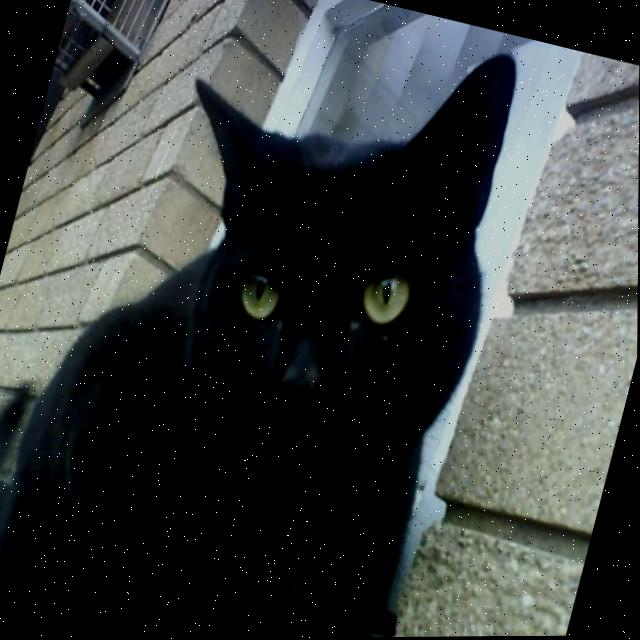Bombay: (0, 0, 553, 640)
